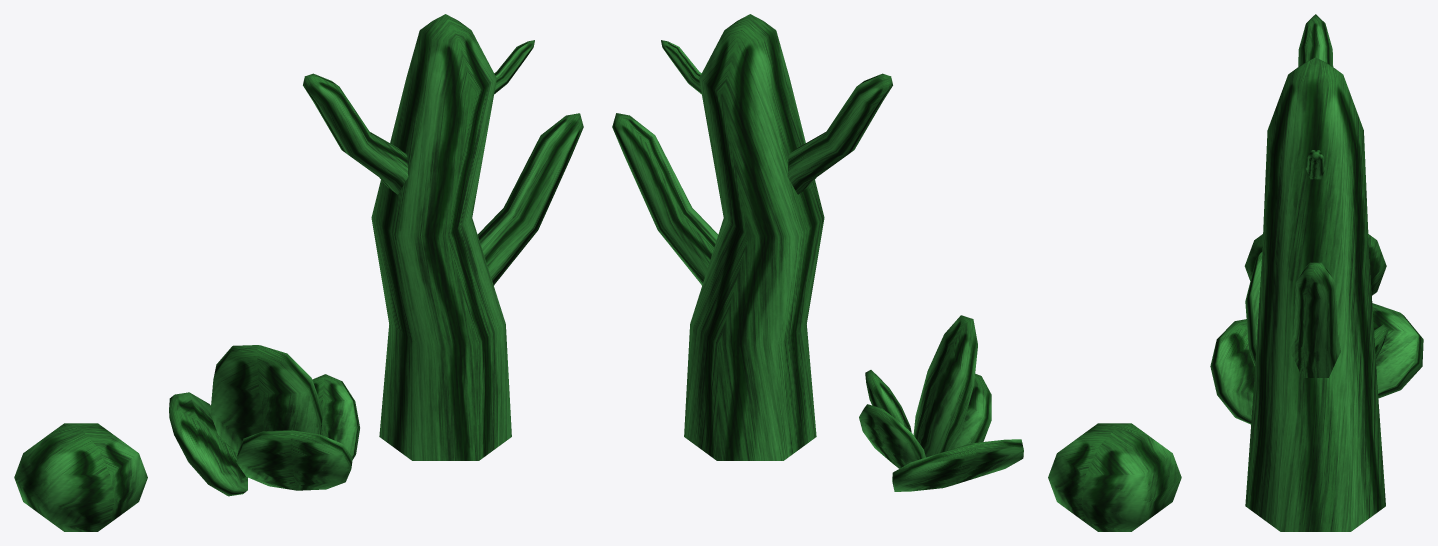
The model's file is cactus.glb.
3 renders of one model, left to right at view 1: azimuth 30°, elevation 25°; view 2: azimuth 150°, elevation 25°; view 3: azimuth 270°, elevation 25°, orthographic. The views are drawn at different scales.
Visible parts, largest first — view 1: Cacto; view 2: Cacto; view 3: Cacto.
Boxes of the visible parts, box(x1,y1,x2,y2) form: Cacto: box(14, 14, 583, 531); Cacto: box(612, 14, 1181, 531); Cacto: box(1210, 14, 1423, 531).
Bounding box in the file's own units: 2.02 × 1.48 × 0.6386.
Materials: 1 (1 with a texture image).
